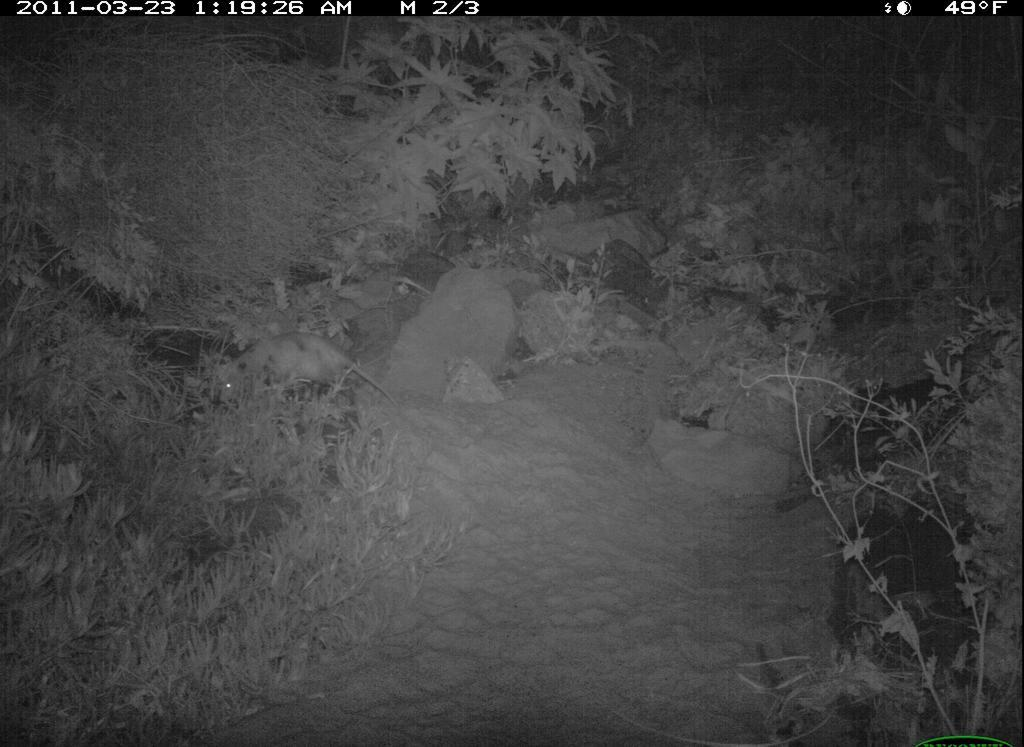opossum: (197, 328, 404, 427)
